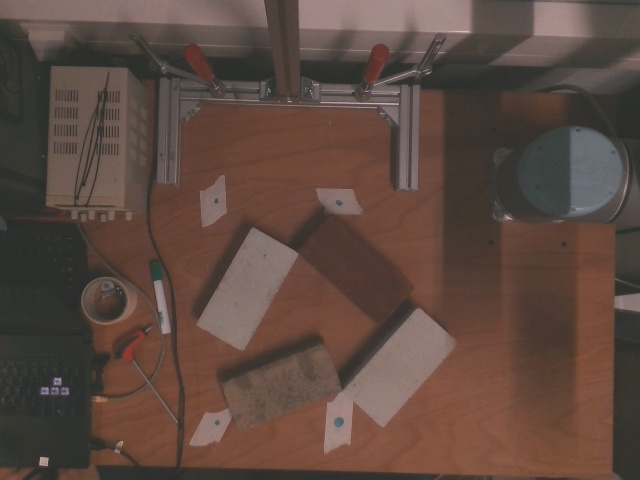brick: (344, 311, 454, 426), (297, 214, 413, 323), (198, 230, 295, 350), (220, 343, 341, 427)
